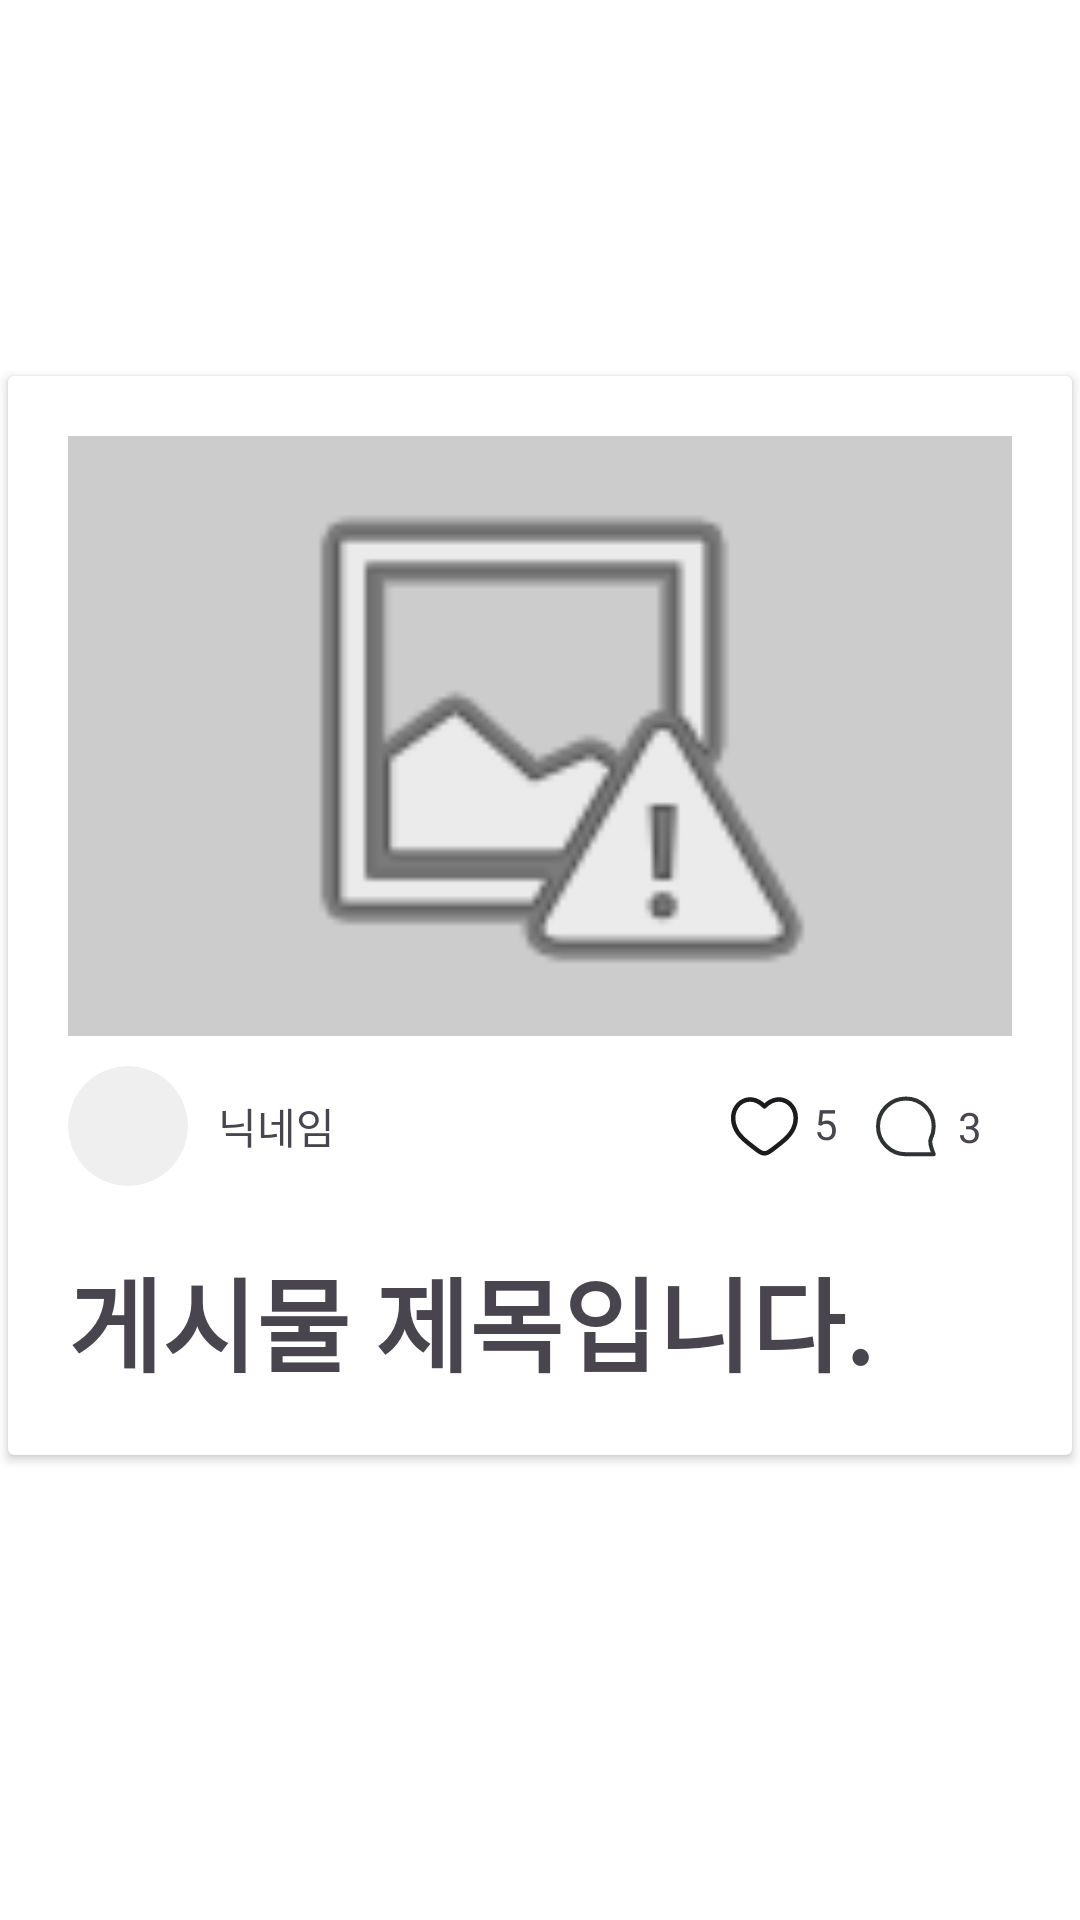

Icons on this 1080×1920 Android screen, each with its box as detection(x1, y1, x2, y2):
chat: detection(876, 1096, 936, 1157)
like off: detection(731, 1097, 798, 1156)
